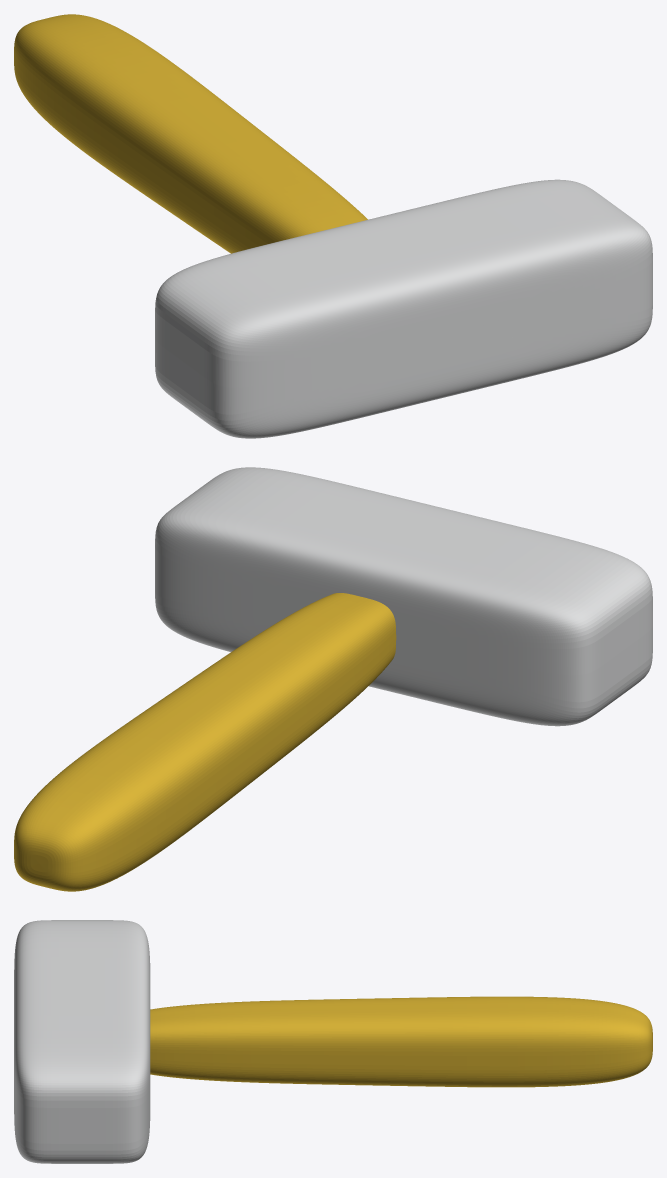
Rendered from claw_hammer_sq.glb.
The picture shows the model from 3 angles, top to bottom: view 1: azimuth 30°, elevation 25°; view 2: azimuth 150°, elevation 25°; view 3: azimuth 270°, elevation 25°; orthographic projection. The views are drawn at different scales.
Parts seen in each view (by area): view 1: superquadric_1, superquadric_0; view 2: superquadric_1, superquadric_0; view 3: superquadric_0, superquadric_1.
Boxes of the visible parts, bbox=[...] form: superquadric_1: bbox=[155, 179, 652, 438]; superquadric_0: bbox=[14, 14, 367, 253]; superquadric_1: bbox=[155, 467, 652, 726]; superquadric_0: bbox=[14, 593, 396, 891]; superquadric_0: bbox=[150, 996, 652, 1087]; superquadric_1: bbox=[14, 920, 150, 1163].
Bounding box in the file's own units: 0.6213 × 0.1747 × 1.
